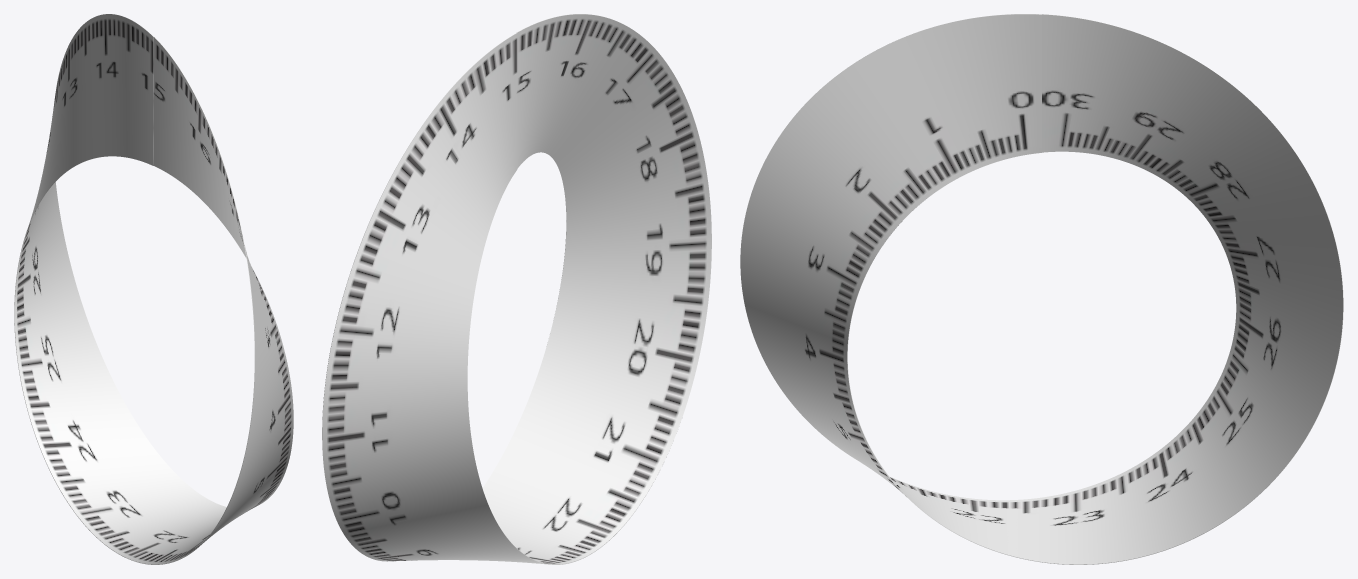
Rendered from mobius_export_final.glb.
The picture shows the model from 3 angles, left to right: view 1: azimuth 30°, elevation 25°; view 2: azimuth 150°, elevation 25°; view 3: azimuth 270°, elevation 25°; orthographic projection. The views are drawn at different scales.
Visible parts, largest first — view 1: Plane; view 2: Plane; view 3: Plane.
Part boxes in pixels (box(x1,y1,x2,y2)): Plane: box(14, 14, 293, 564); Plane: box(322, 14, 711, 564); Plane: box(740, 14, 1343, 564).
Size of the model in its own units: 0.0296 by 0.1109 by 0.117.
Materials: 1 (1 with a texture image).
